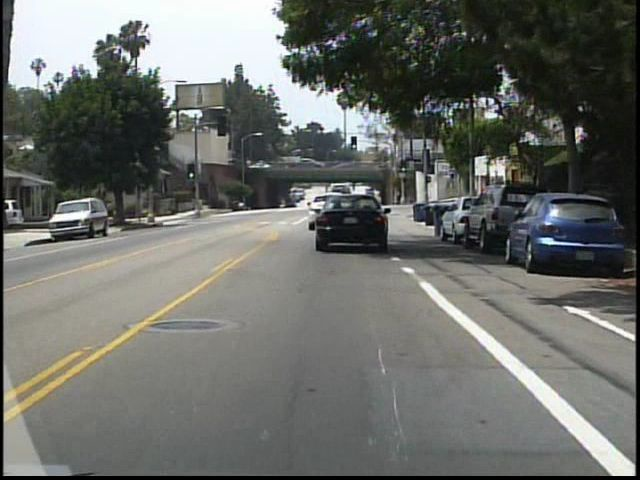person: (106, 199, 116, 225)
